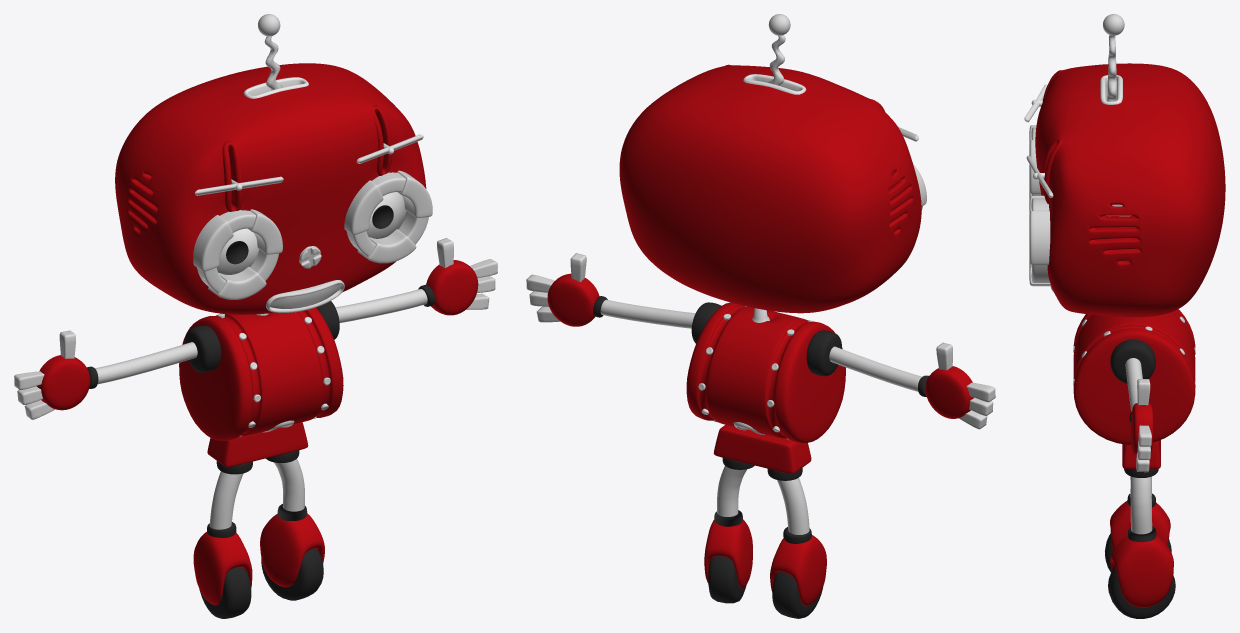
The model's file is AnimoGLTF.gltf.
The picture shows the model from 3 angles, left to right: view 1: azimuth 30°, elevation 25°; view 2: azimuth 150°, elevation 25°; view 3: azimuth 270°, elevation 25°; orthographic projection. The views are drawn at different scales.
Visible parts, largest first — view 1: box_head, chest, eye_rings_v2, shoe_li, shoe_re, pants, hand_re, hand_li, eye_white, brow_rahmen, arm_re, mouth_border (+8 smaller); view 2: box_head, chest, pants, shoe_re, shoe_li, hand_li, hand_re, arm_re, arm_li, wheel_spin_li, wheel_spin_re, legs_re (+3 smaller); view 3: box_head, chest, shoe_li, eye_rings_v2, shoulder_li, legs_li, shoe_re, wheel_spin_li, antenna_cyl, hand_li, pants, arm_li (+3 smaller).
Boxes of the visible parts, x1,y1,x2,y2 form: box_head: (115, 63, 426, 314); chest: (179, 307, 343, 440); eye_rings_v2: (193, 170, 432, 299); shoe_li: (260, 513, 324, 587); shoe_re: (193, 532, 252, 605); pants: (207, 422, 308, 467); hand_re: (36, 355, 90, 410); hand_li: (426, 260, 478, 315); eye_white: (216, 192, 406, 274); brow_rahmen: (222, 106, 392, 211); arm_re: (95, 342, 197, 384); mouth_border: (266, 280, 344, 312); box_head: (619, 65, 921, 313); chest: (686, 302, 845, 442); pants: (713, 425, 811, 473); shoe_re: (770, 535, 826, 606); shoe_li: (704, 519, 752, 588); hand_li: (547, 273, 599, 326); hand_re: (925, 366, 973, 418); arm_re: (829, 346, 921, 391); arm_li: (600, 299, 695, 328); wheel_spin_li: (708, 556, 746, 603); wheel_spin_re: (772, 572, 823, 618); legs_re: (777, 477, 809, 534); box_head: (1035, 63, 1225, 316); chest: (1073, 309, 1195, 444); shoe_li: (1110, 535, 1173, 607); eye_rings_v2: (1029, 125, 1050, 286); shoulder_li: (1110, 339, 1155, 383); legs_li: (1130, 476, 1152, 534); shoe_re: (1110, 501, 1170, 550); wheel_spin_li: (1108, 566, 1175, 618); antenna_cyl: (1103, 14, 1124, 101); hand_li: (1131, 403, 1153, 455); pants: (1122, 440, 1160, 468); arm_li: (1125, 358, 1142, 411).
Bounding box in the file's own units: 36.04 × 43.33 × 13.54.
